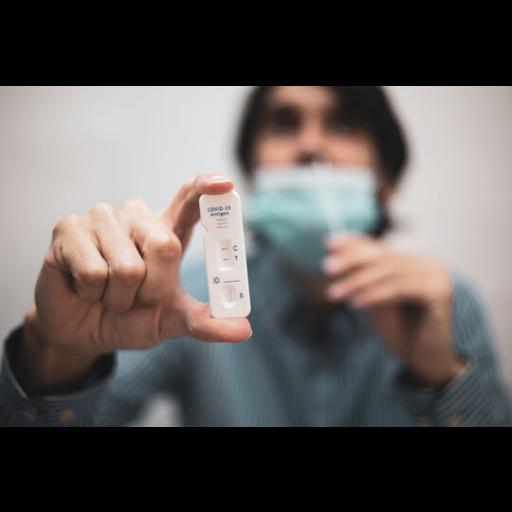Pos: (200, 190, 253, 318)
